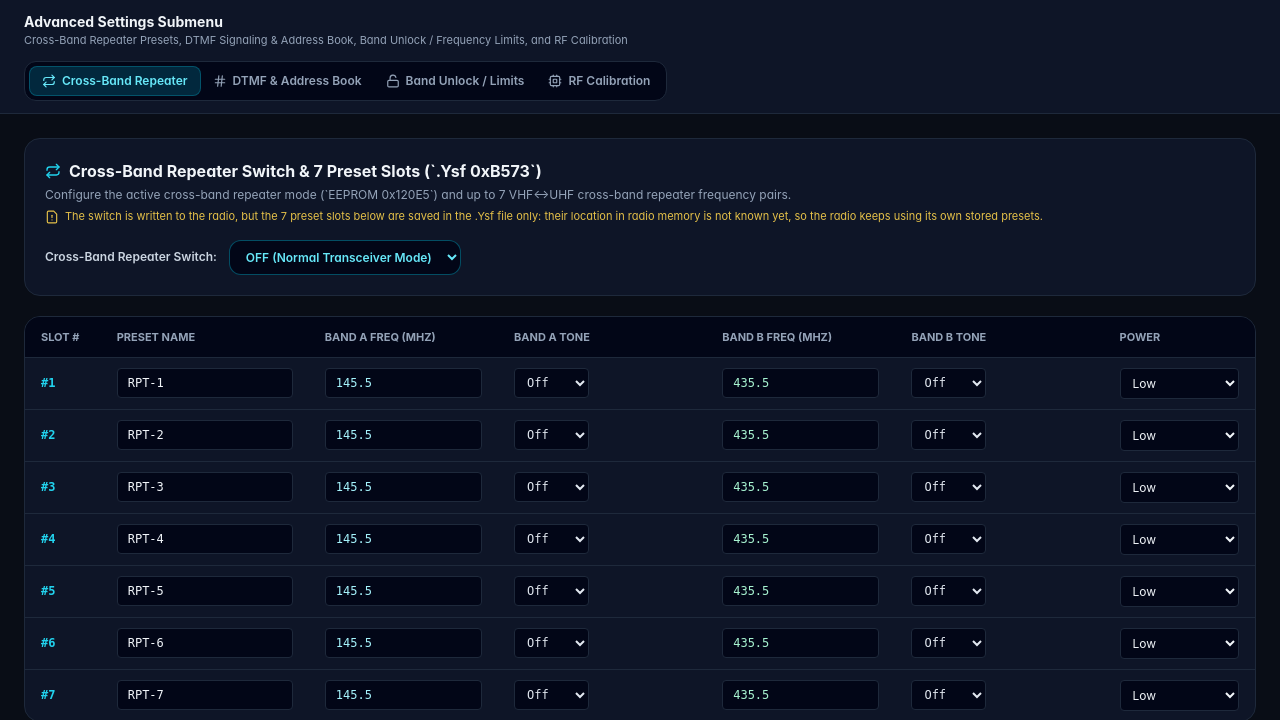
Test case: band limit fields › refuses negative values and a minimum above the maximum, keeping the old limit
The width and height of the screenshot is (1280, 720).
Click the button "Band Unlock / Limits". click: (455, 80)
box: [374, 66, 536, 94]
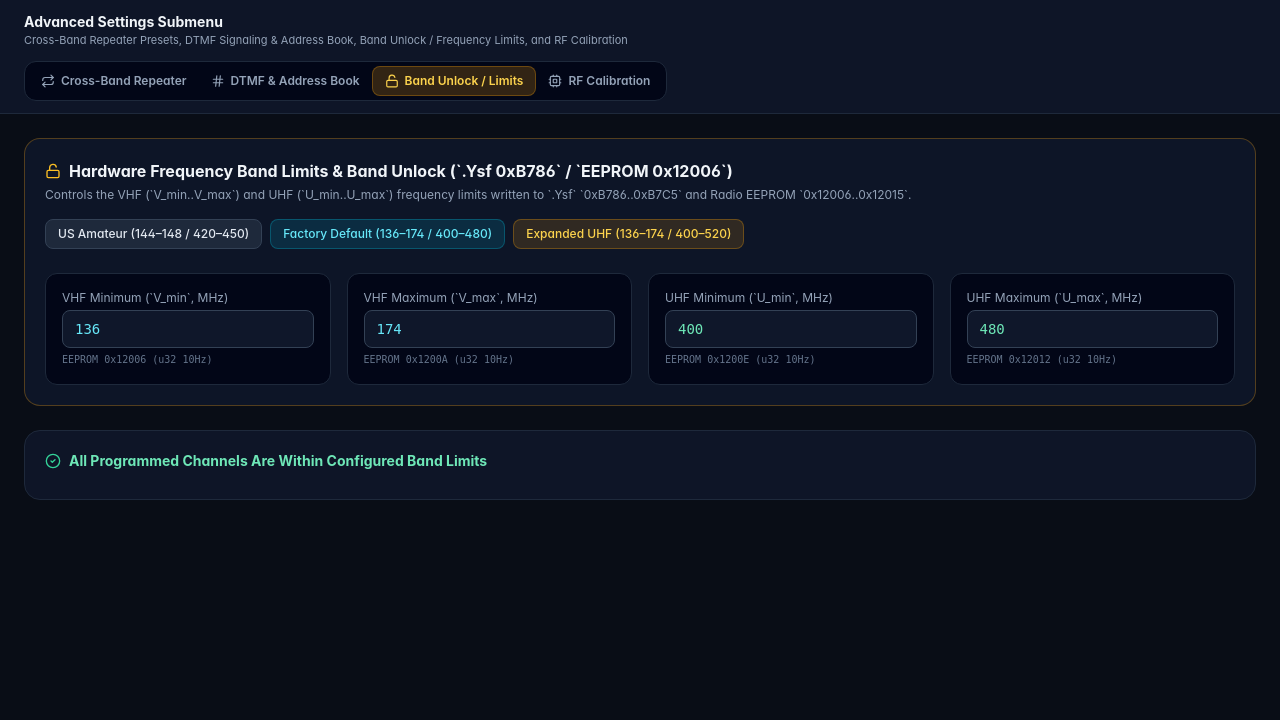
Replace the text in the field named "VHF minimum (MHz)" with "-136". click: (188, 328)
box: [62, 310, 314, 348]
Leave the field named "VHF minimum (MHz)", box [62, 310, 314, 348]
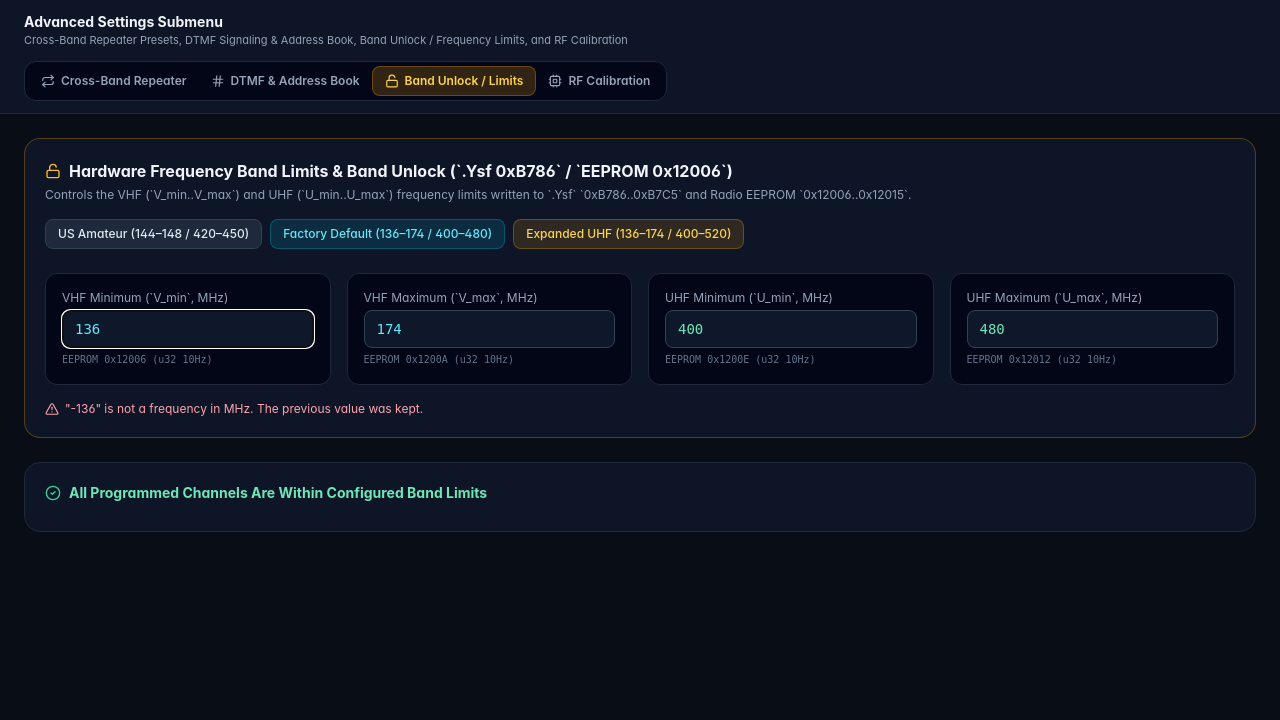
Check: the message shows "\"-136\" is not a frequency in MHz.", box [65, 400, 254, 416]
Replace the text in the field named "VHF minimum (MHz)" with "180". click: (188, 328)
box: [62, 310, 314, 348]
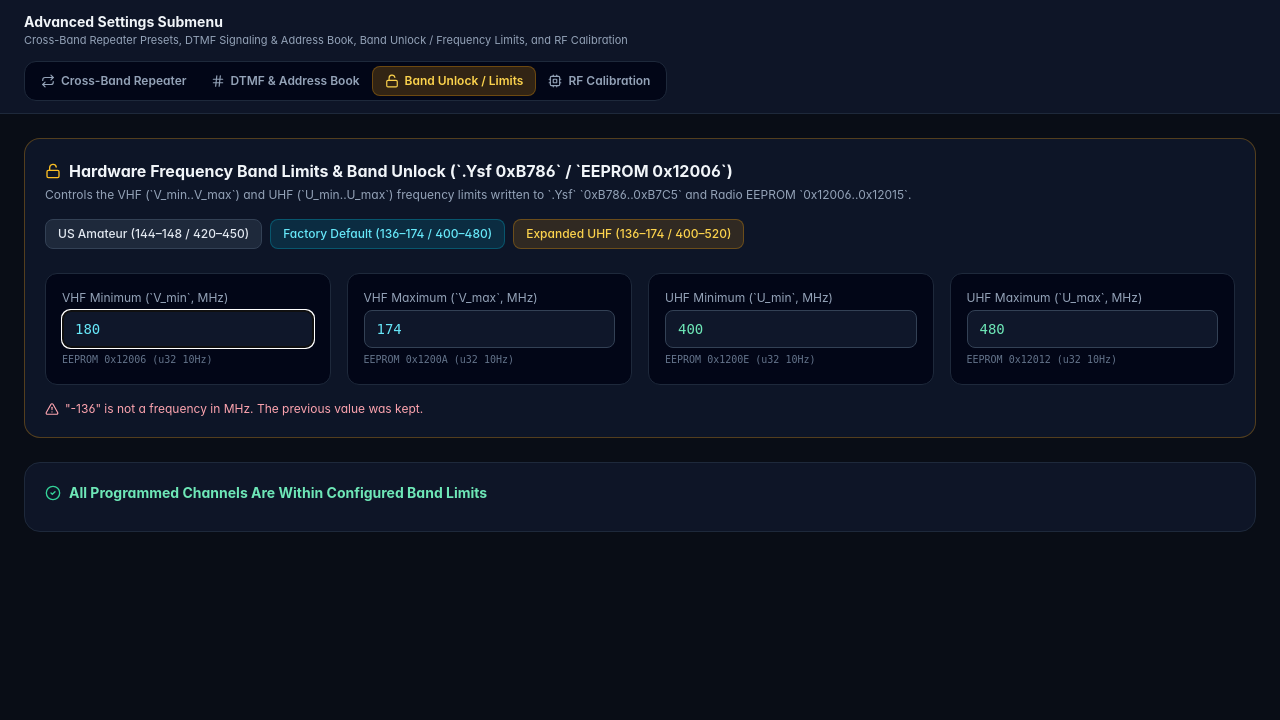
Leave the field named "VHF minimum (MHz)", box [62, 310, 314, 348]
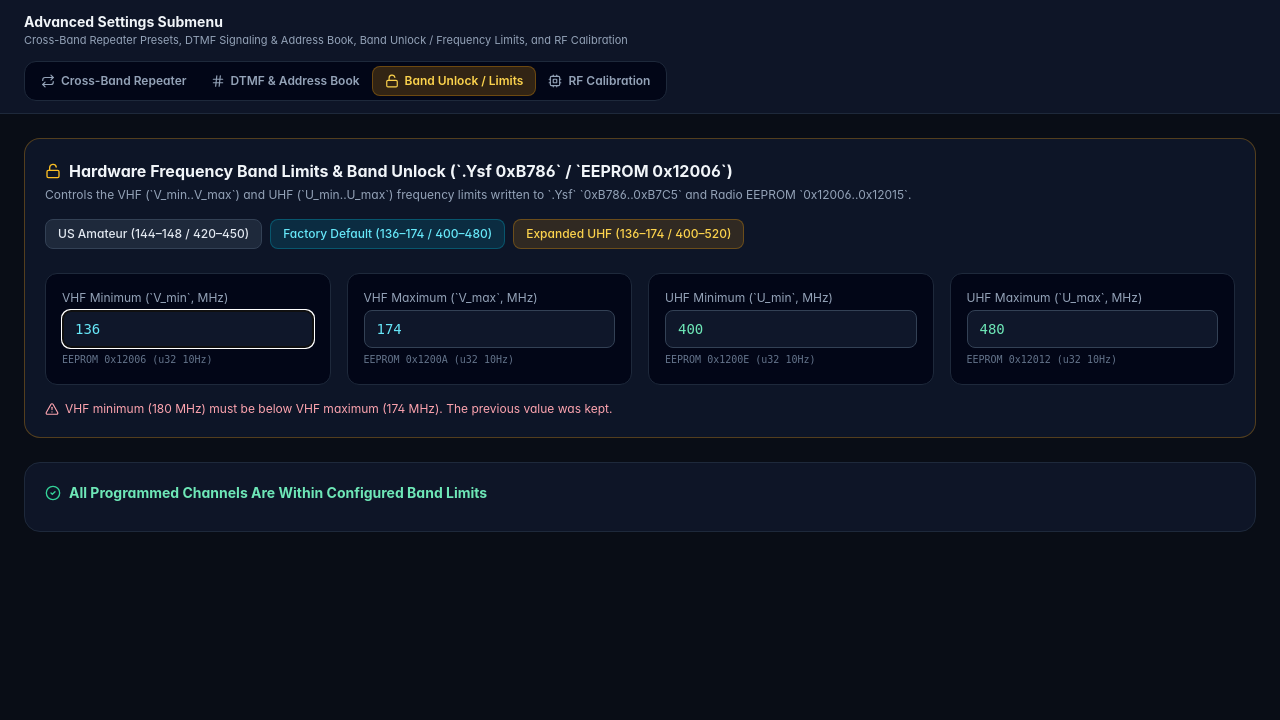
Check: the message shows "VHF minimum (180 MHz) must be below VHF maximum", box [65, 400, 443, 416]
Replace the text in the field named "UHF maximum (MHz)" with "520". click: (1092, 328)
box: [966, 310, 1218, 348]
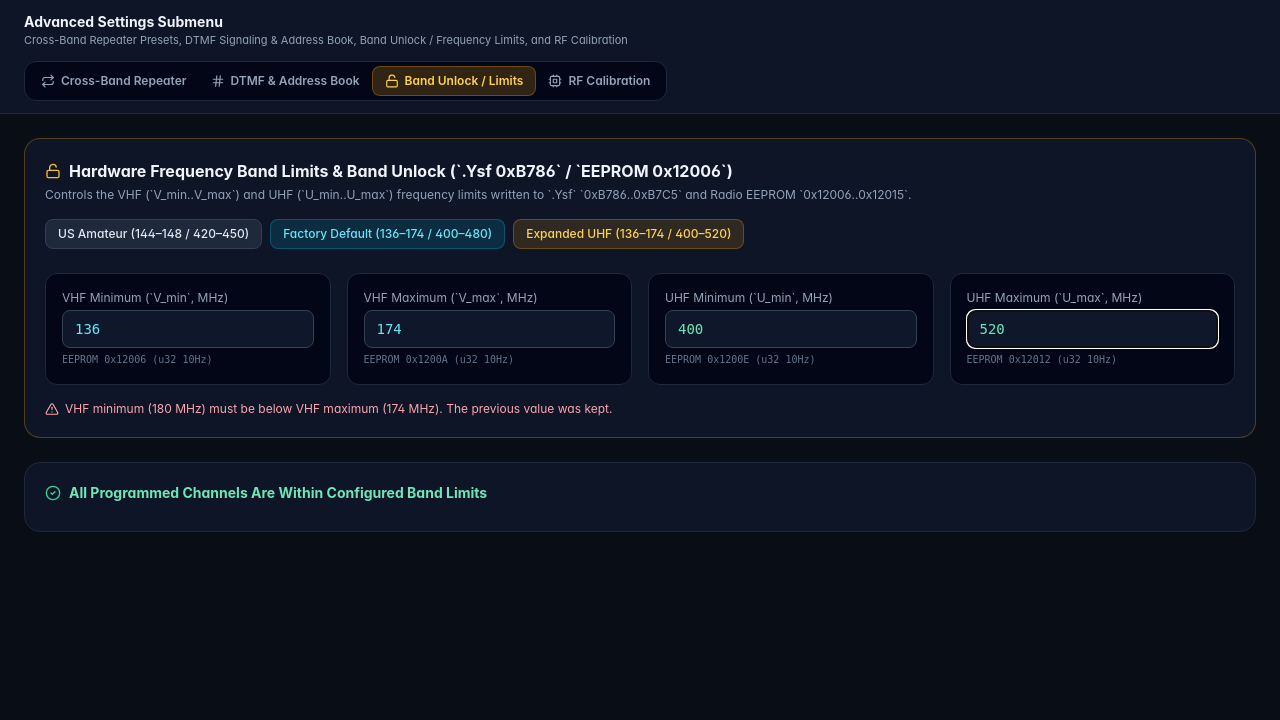
Leave the field named "UHF maximum (MHz)", box [966, 310, 1218, 348]
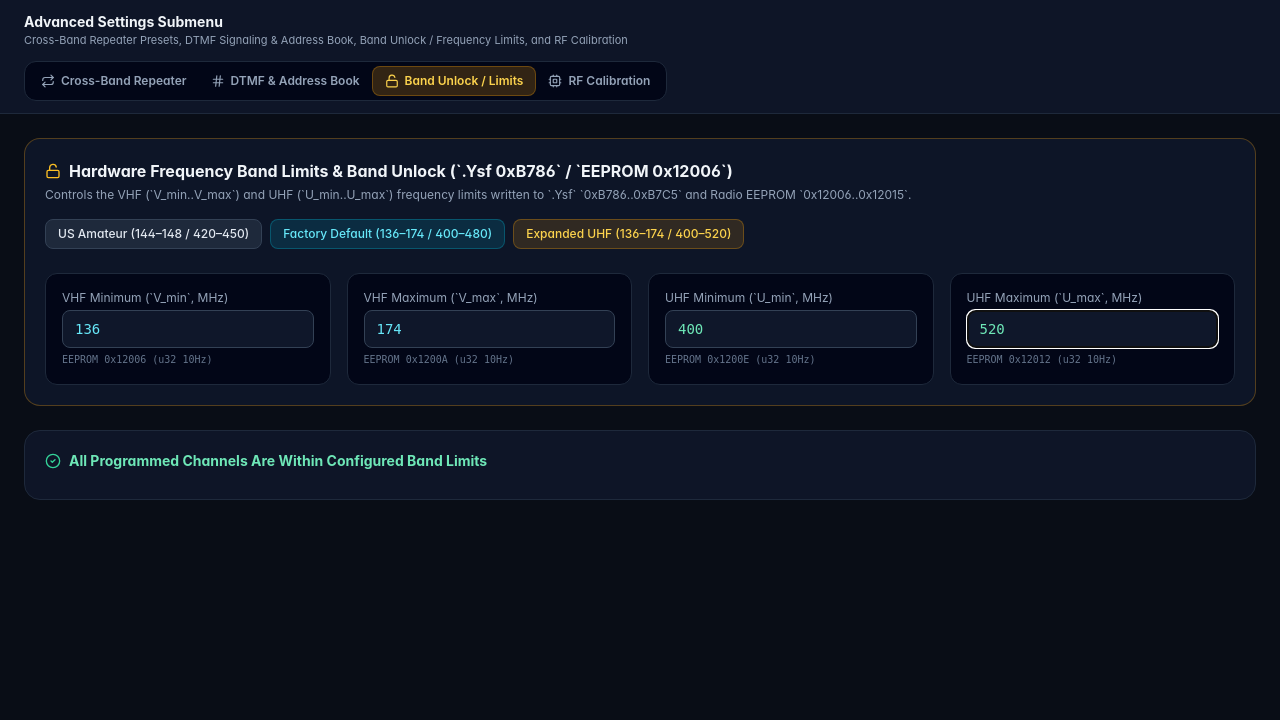
Check: the message is gone
